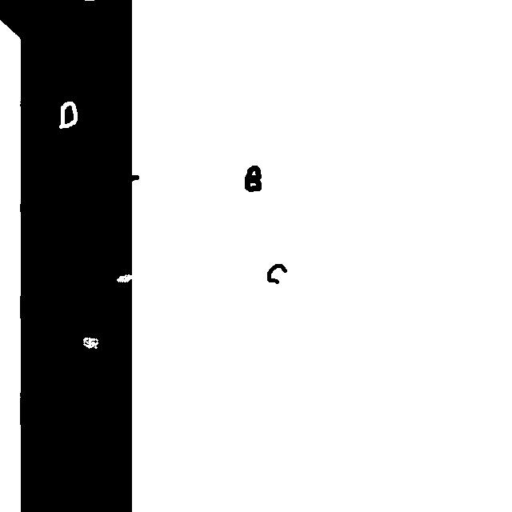copper: (237, 158, 269, 199), (259, 256, 294, 291)
mousebite: (110, 266, 140, 289)
pin-hole: (51, 94, 85, 136), (75, 330, 106, 356)
spur: (118, 166, 146, 189)
